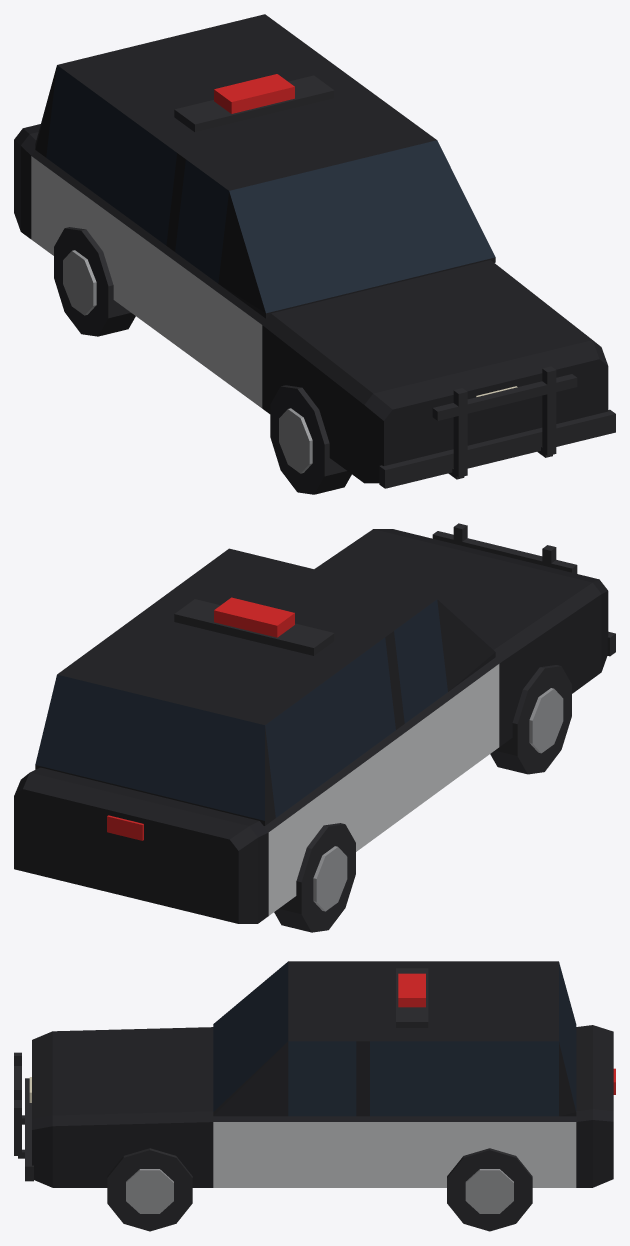
The model's file is voiture_police_suv.glb.
3 renders of one model, top to bottom at view 1: azimuth 30°, elevation 25°; view 2: azimuth 150°, elevation 25°; view 3: azimuth 270°, elevation 25°, orthographic. The views are drawn at different scales.
Parts seen in each view (by area): view 1: voiture_police_suv; view 2: voiture_police_suv; view 3: voiture_police_suv.
Boxes of the visible parts, x1=… form: voiture_police_suv: x1=14, y1=14, x2=615, y2=494; voiture_police_suv: x1=14, y1=523, x2=615, y2=932; voiture_police_suv: x1=14, y1=961, x2=615, y2=1231.
Bounding box in the file's own units: 2 × 1.9 × 5.23.
